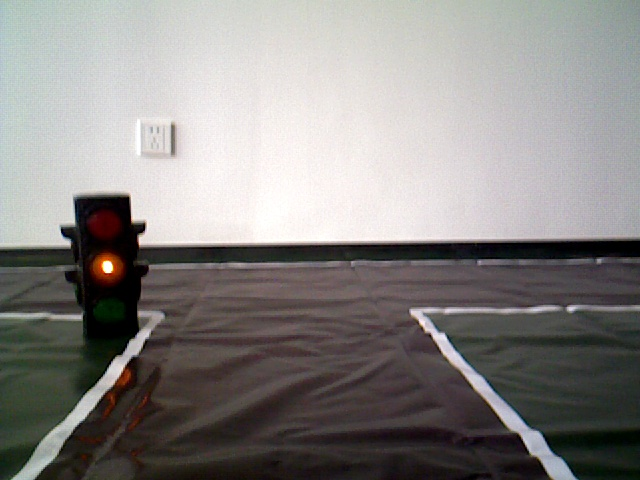yellow: (76, 195, 140, 341)
